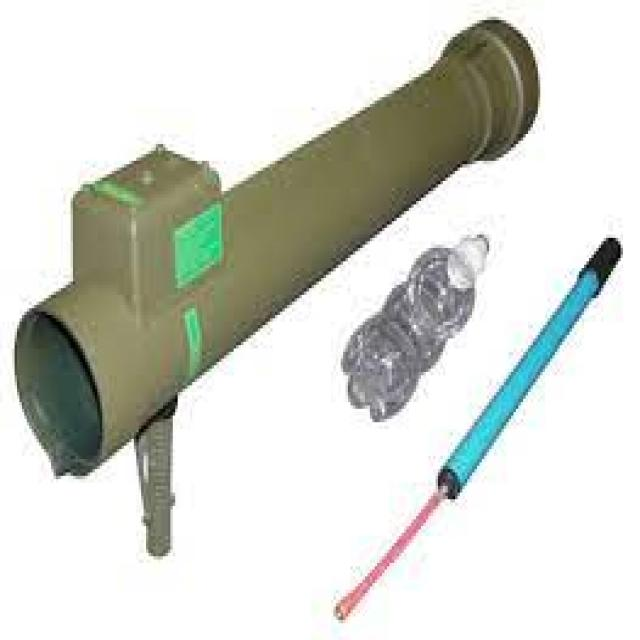bazooka: (13, 1, 563, 607)
